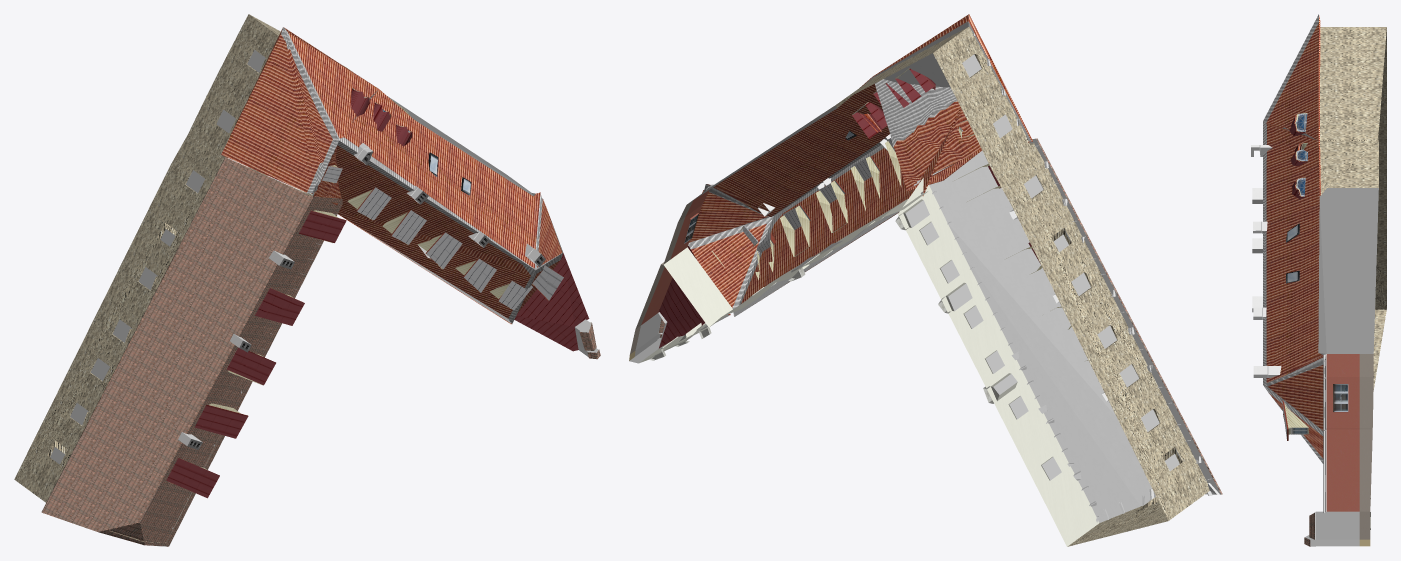
The model's file is Toom-Kooli_21_2-origo.obj.
3 renders of one model, left to right at view 1: azimuth 30°, elevation 25°; view 2: azimuth 150°, elevation 25°; view 3: azimuth 270°, elevation 25°, orthographic. The views are drawn at different scales.
Parts seen in each view (by area): view 1: Toom_Kooli_21_2; view 2: Toom_Kooli_21_2; view 3: Toom_Kooli_21_2.
Boxes of the visible parts, x1=… form: Toom_Kooli_21_2: x1=14, y1=14, x2=600, y2=546; Toom_Kooli_21_2: x1=629, y1=14, x2=1222, y2=546; Toom_Kooli_21_2: x1=1251, y1=14, x2=1386, y2=546.
Size of the model in its own units: 44.5 by 37 by 9.72.
